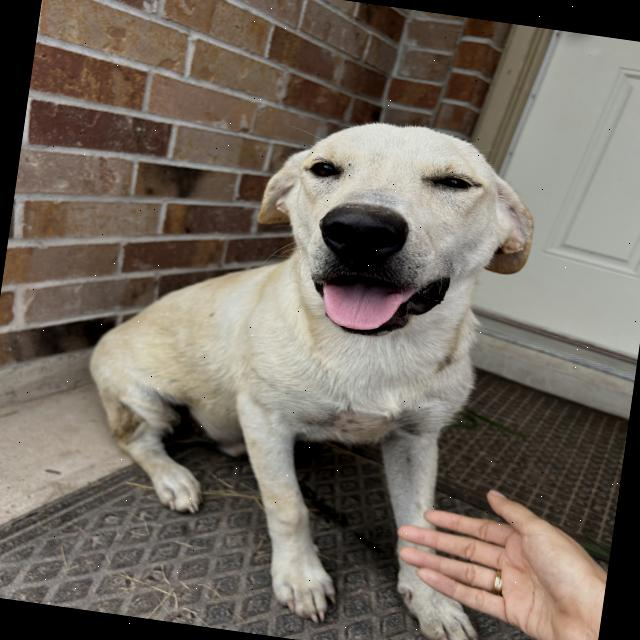labrador_retriever_dog: (216, 91, 566, 376)
